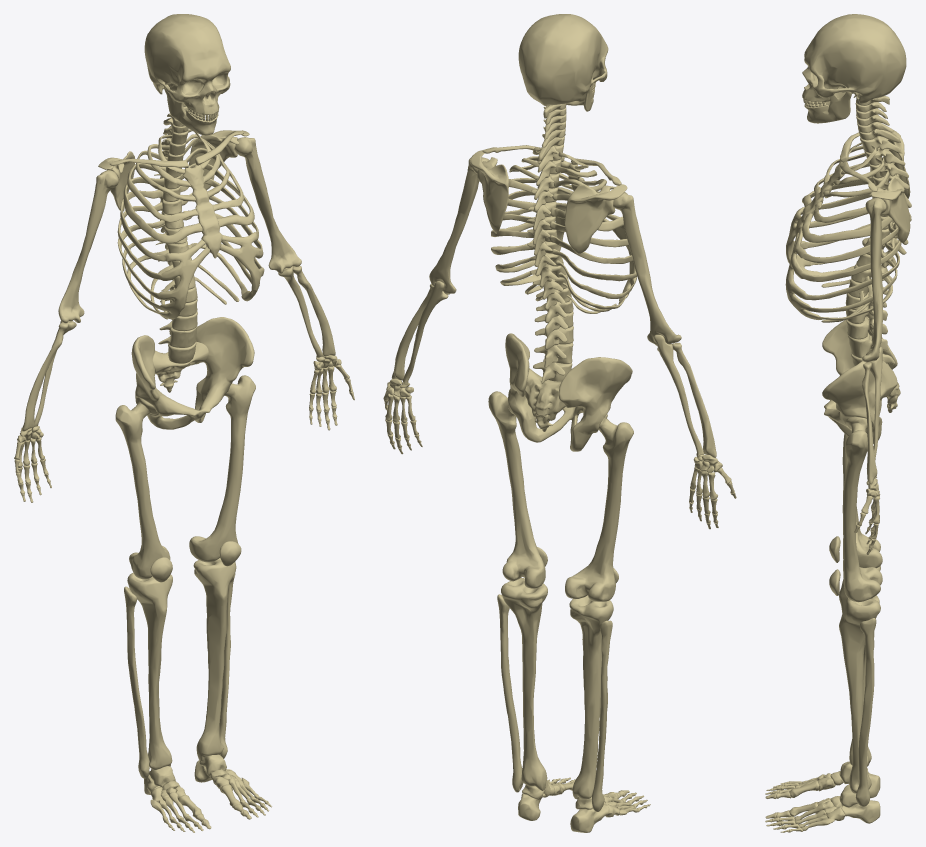
The model's file is body.glb.
3 views of the same model, side by side, from view 1: azimuth 30°, elevation 25°; view 2: azimuth 150°, elevation 25°; view 3: azimuth 270°, elevation 25° (orthographic). The views are drawn at different scales.
Visible parts, largest first — view 1: udambu; view 2: udambu; view 3: udambu.
Part boxes in pixels (x1=…): udambu: x1=14, y1=14, x2=354, y2=832; udambu: x1=383, y1=14, x2=736, y2=832; udambu: x1=765, y1=14, x2=911, y2=832.
Size of the model in its own units: 0.7975 by 1.75 by 0.2949.
